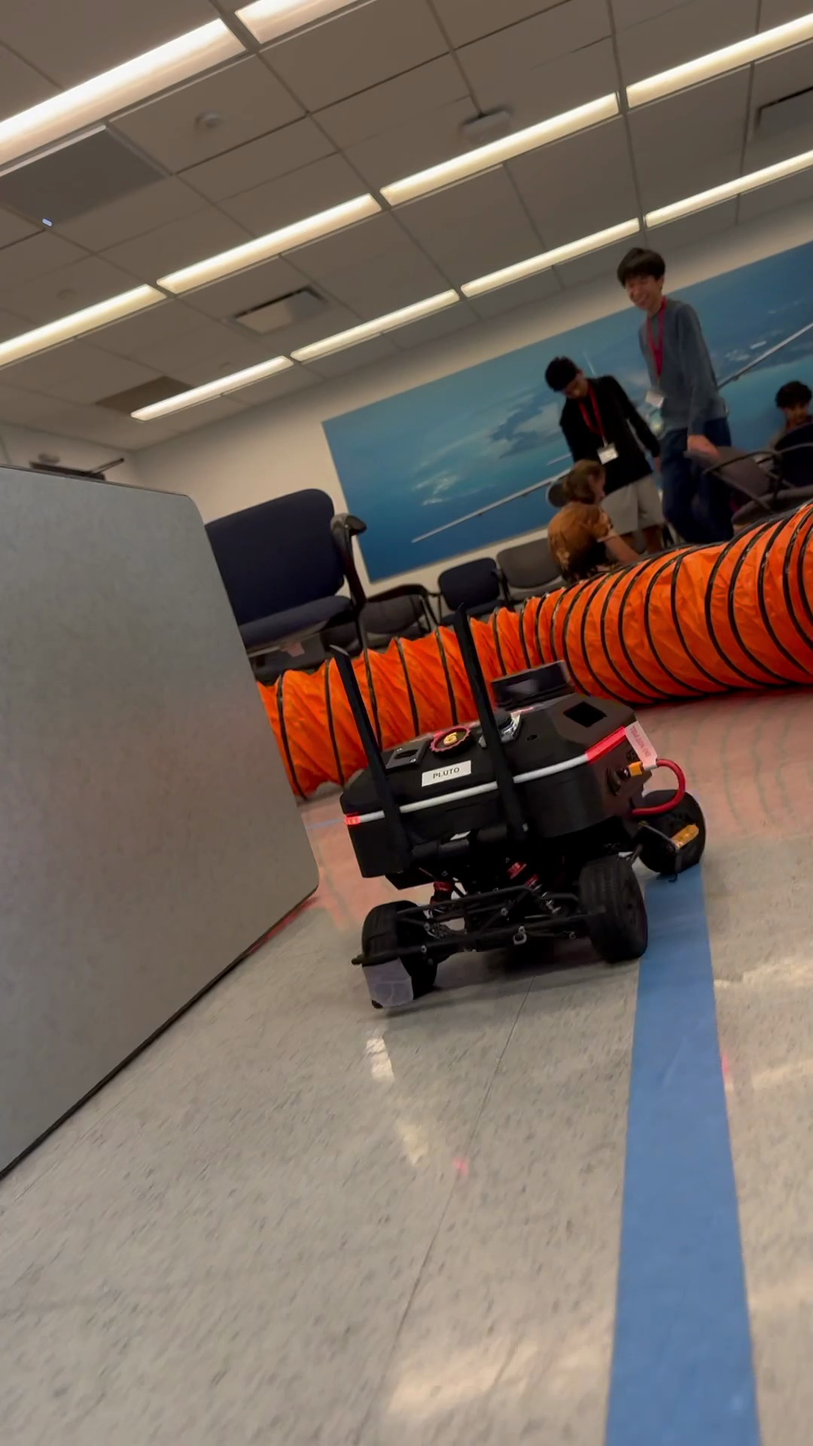racecar: (335, 616, 710, 1004)
